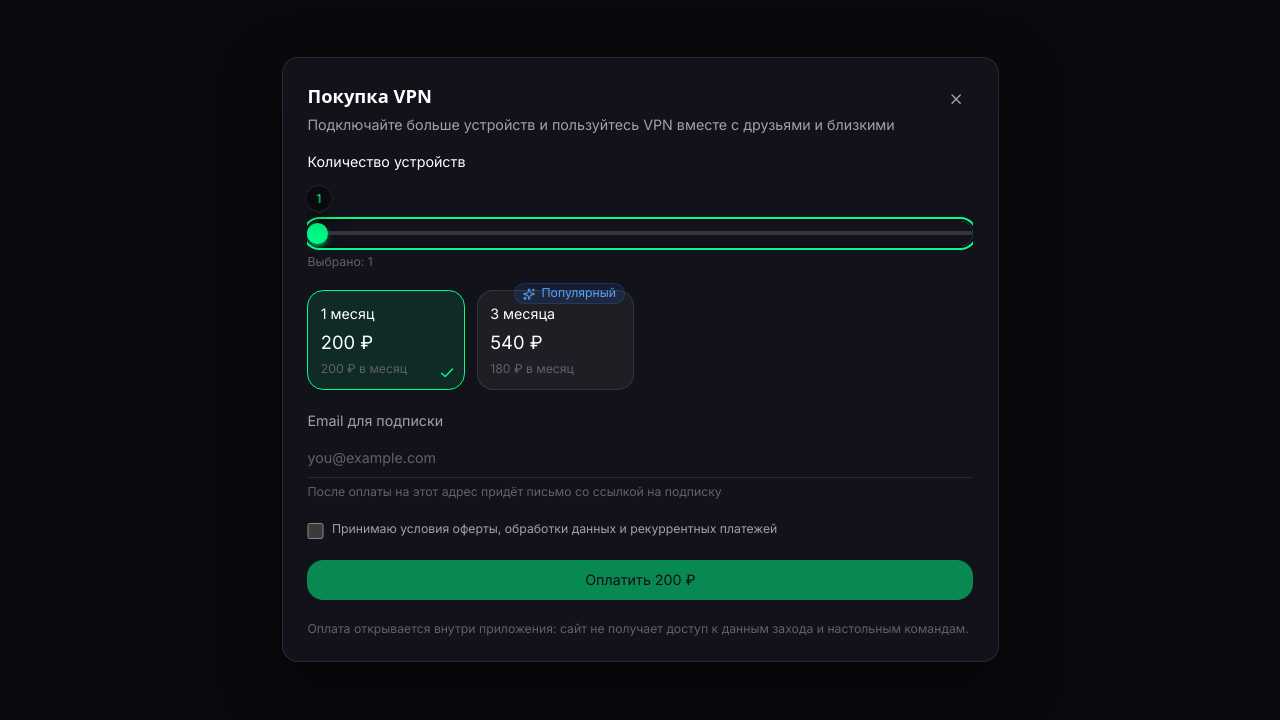
Test: PaymentModal › блокирует оплату без email и без согласия с условиями
This screenshot has width=1280, height=720.
Expected: the button "Оплатить 200 ₽" is disabled, [307,560,973,601]
Step 1. Click the checkbox → [315, 531], box [307,523,323,539]
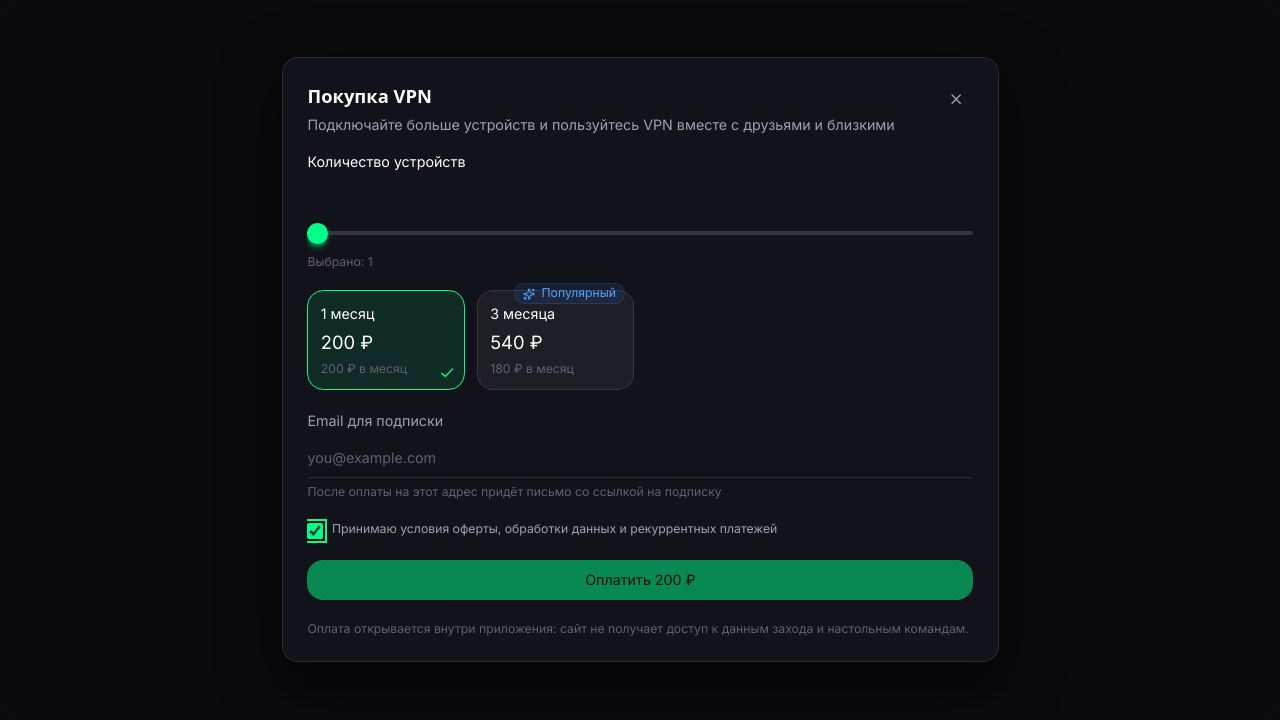
Expected: the button "Оплатить 200 ₽" is disabled, [307,560,973,601]
Step 2. Type "user@example.com" into the field labelled "Email для подписки" → [640, 457], box [307,437,973,478]
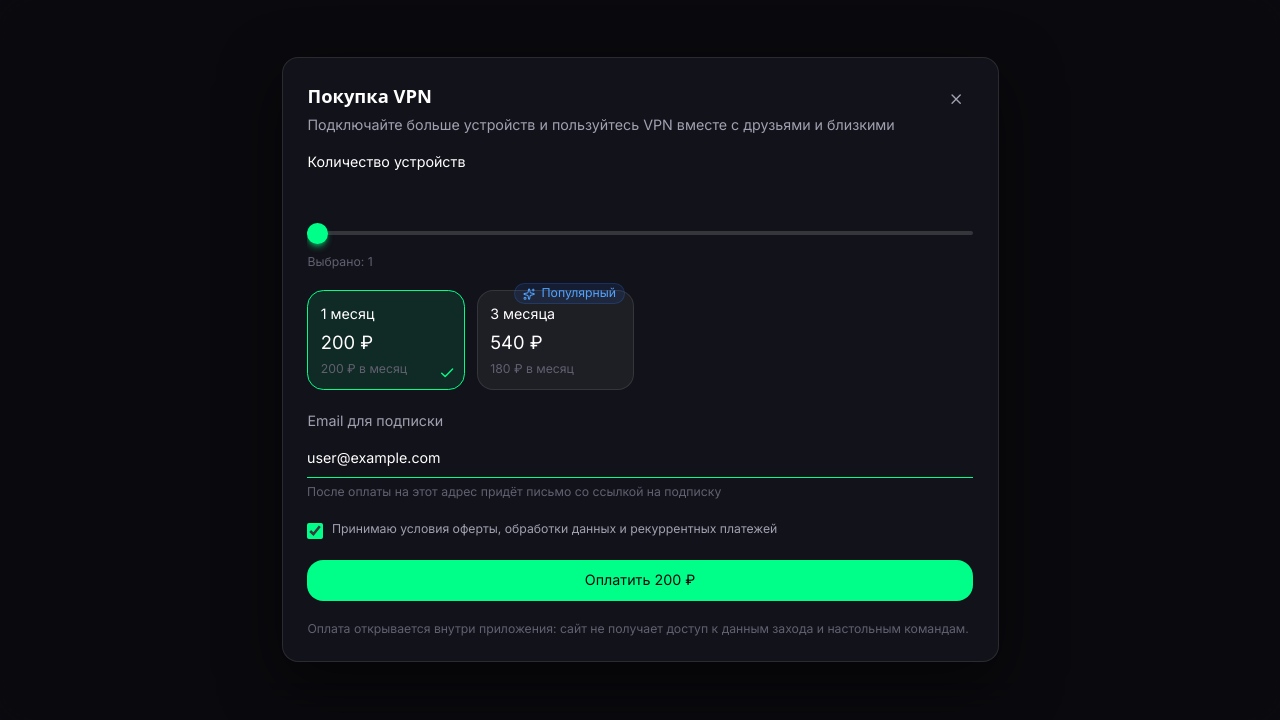
Expected: the button "Оплатить 200 ₽" is enabled, [307,560,973,601]
